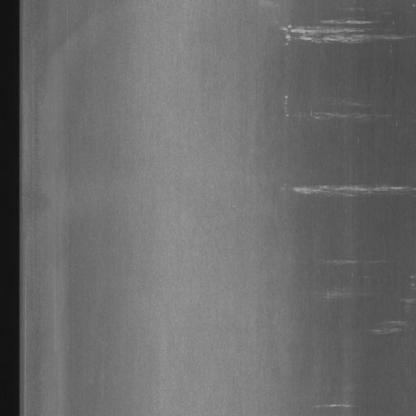waist_folding: (278, 16, 416, 398)
